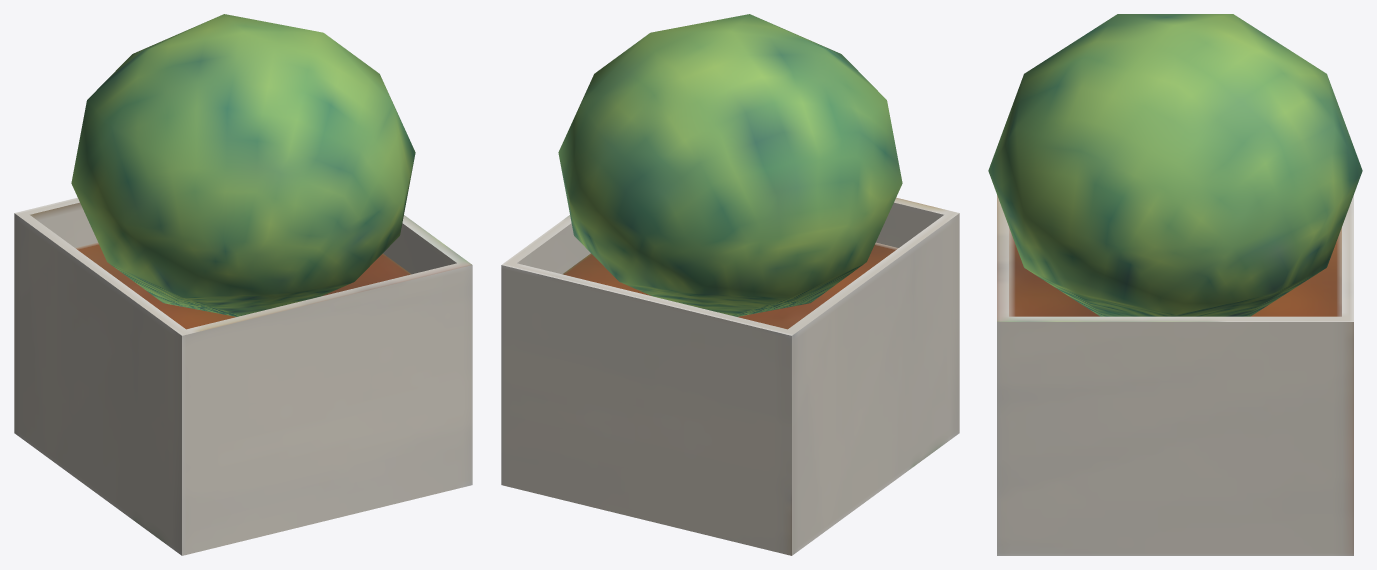
Rendered from Plante.glb.
3 views of the same model, side by side, from view 1: azimuth 30°, elevation 25°; view 2: azimuth 150°, elevation 25°; view 3: azimuth 270°, elevation 25° (orthographic). The views are drawn at different scales.
Parts seen in each view (by area): view 1: Plante.001; view 2: Plante.001; view 3: Plante.001.
Part boxes in pixels (x1,y1,x2,y2): Plante.001: (14, 14, 472, 555); Plante.001: (501, 14, 959, 555); Plante.001: (988, 14, 1362, 555).
Size of the model in its own units: 0.396 by 0.5564 by 0.4154.
Materials: 1 (1 with a texture image).
